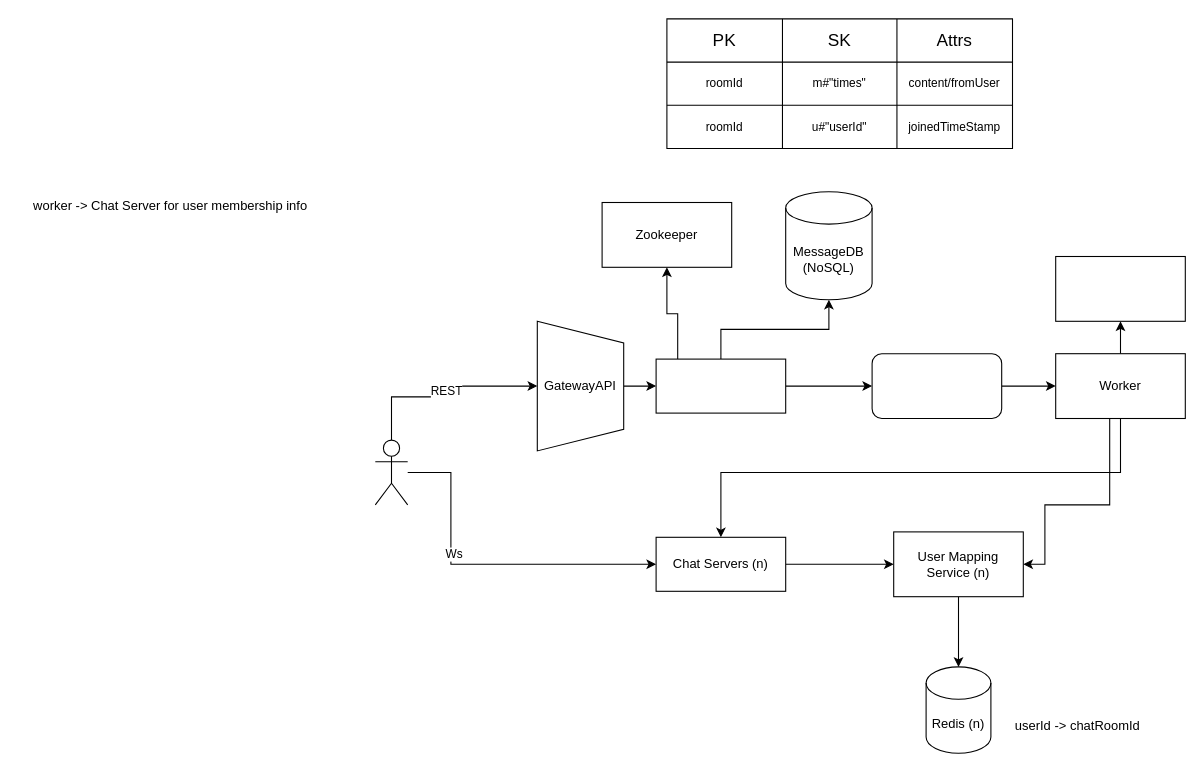
Image size: 1204x772. Some labels were removed from this diagram. The shapes that lost their labels are listed below. From the top down, each one's box as (x1, y1, x2, y2) in pixels, then its label:
(1055, 255, 1185, 321): Notification Service
(655, 358, 786, 413): Chat Service (n)
(871, 353, 1002, 418): Kafka
(374, 439, 408, 505): Actor
